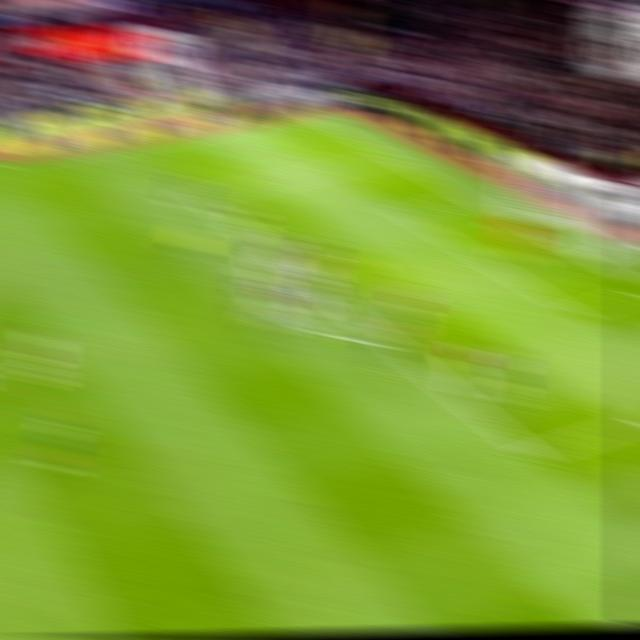bigarea_bottom_inner: (512, 437, 551, 469)
bigarea_top_inner: (181, 183, 216, 207)
bigarea_top_outter: (373, 148, 407, 167)
bottom_arc_area_intersection: (376, 334, 410, 355)
corner: (290, 105, 327, 124)
smallarea_bottom_inner: (556, 295, 593, 325)
smallarea_top_inner: (388, 202, 424, 226)
smallarea_top_outter: (451, 188, 485, 208)
